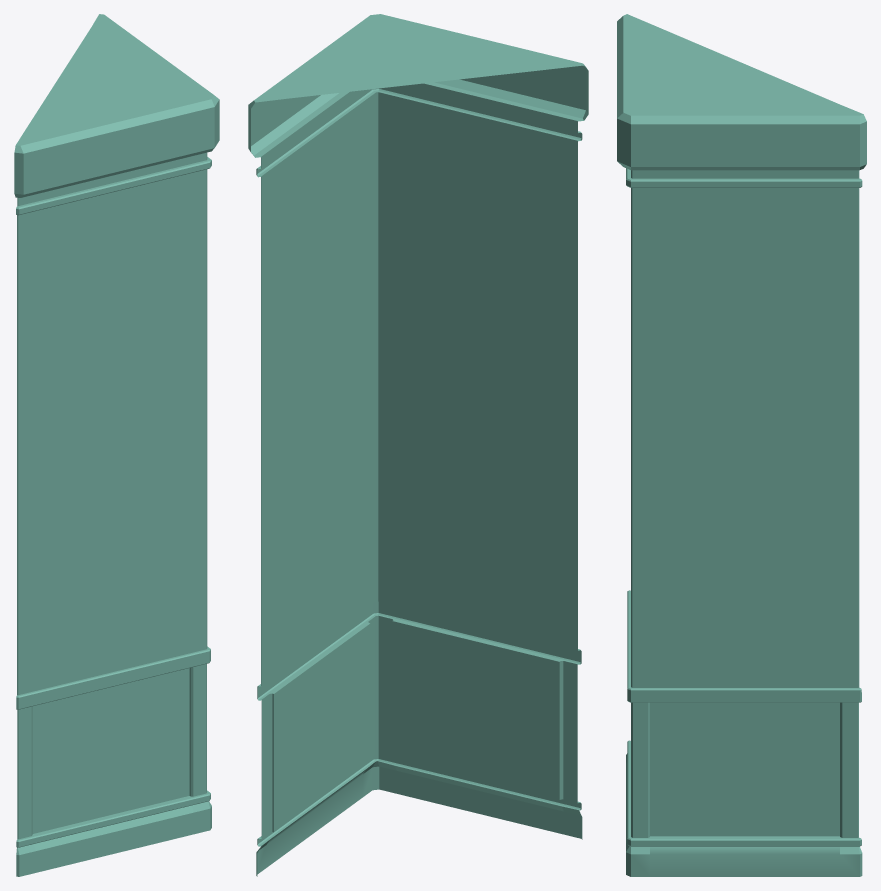
Rendered from TempA_CornerPillar_01_Low.fbx.
3 views of the same model, side by side, from view 1: azimuth 30°, elevation 25°; view 2: azimuth 150°, elevation 25°; view 3: azimuth 270°, elevation 25° (orthographic). The views are drawn at different scales.
Parts seen in each view (by area): view 1: TempA_CornerPillar_01_Low; view 2: TempA_CornerPillar_01_Low; view 3: TempA_CornerPillar_01_Low.
Boxes of the visible parts, x1,y1,x2,y2 form: TempA_CornerPillar_01_Low: (14, 14, 219, 876); TempA_CornerPillar_01_Low: (248, 14, 588, 876); TempA_CornerPillar_01_Low: (617, 14, 866, 876).
Bounding box in the file's own units: 1.27 × 4.27 × 1.27.
